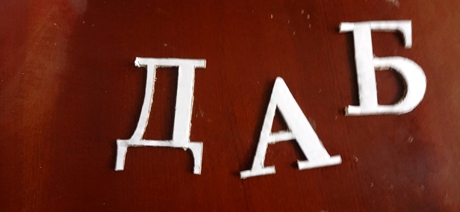a: (239, 77, 342, 180)
b: (340, 20, 427, 115)
d: (114, 57, 207, 176)
